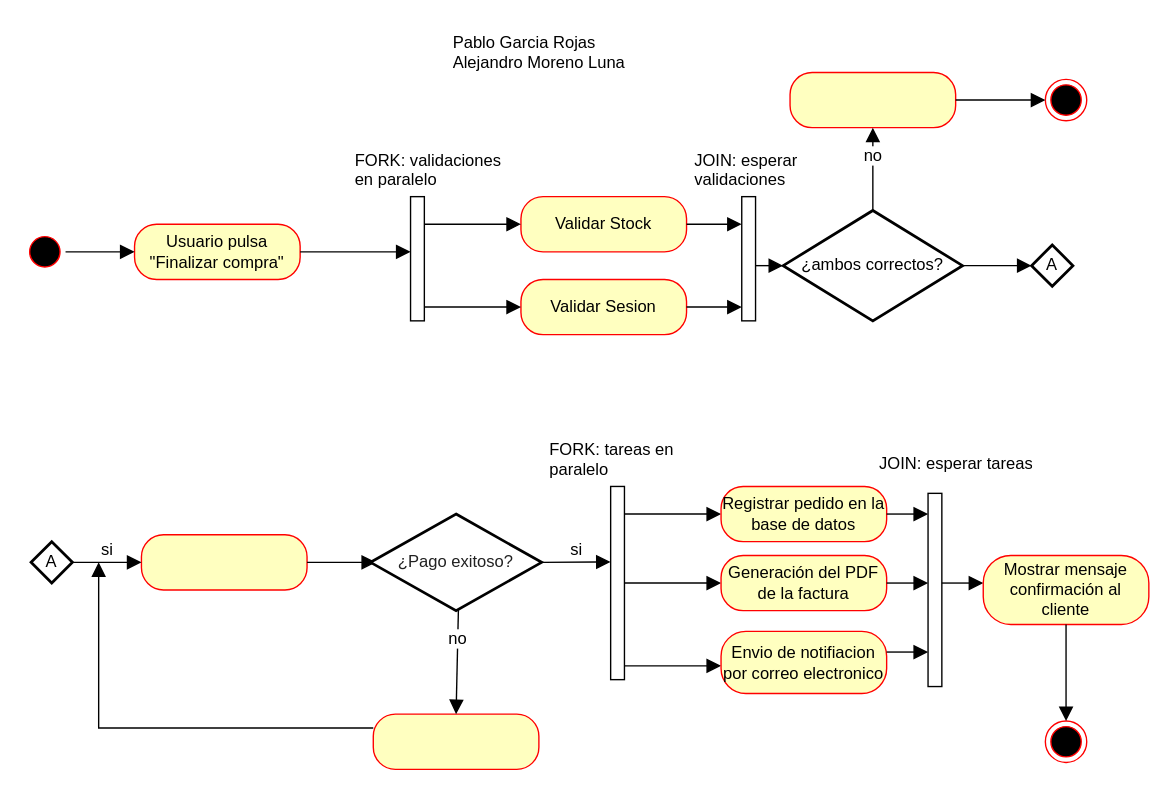
This 1173x794 diagram has some shape labels left out. The centre of each missing label's shape, as x and y in pixels:
Error de pago: pixel 455 741
Error en validacion: pixel 872 99
Procesar pago: pixel 223 561
